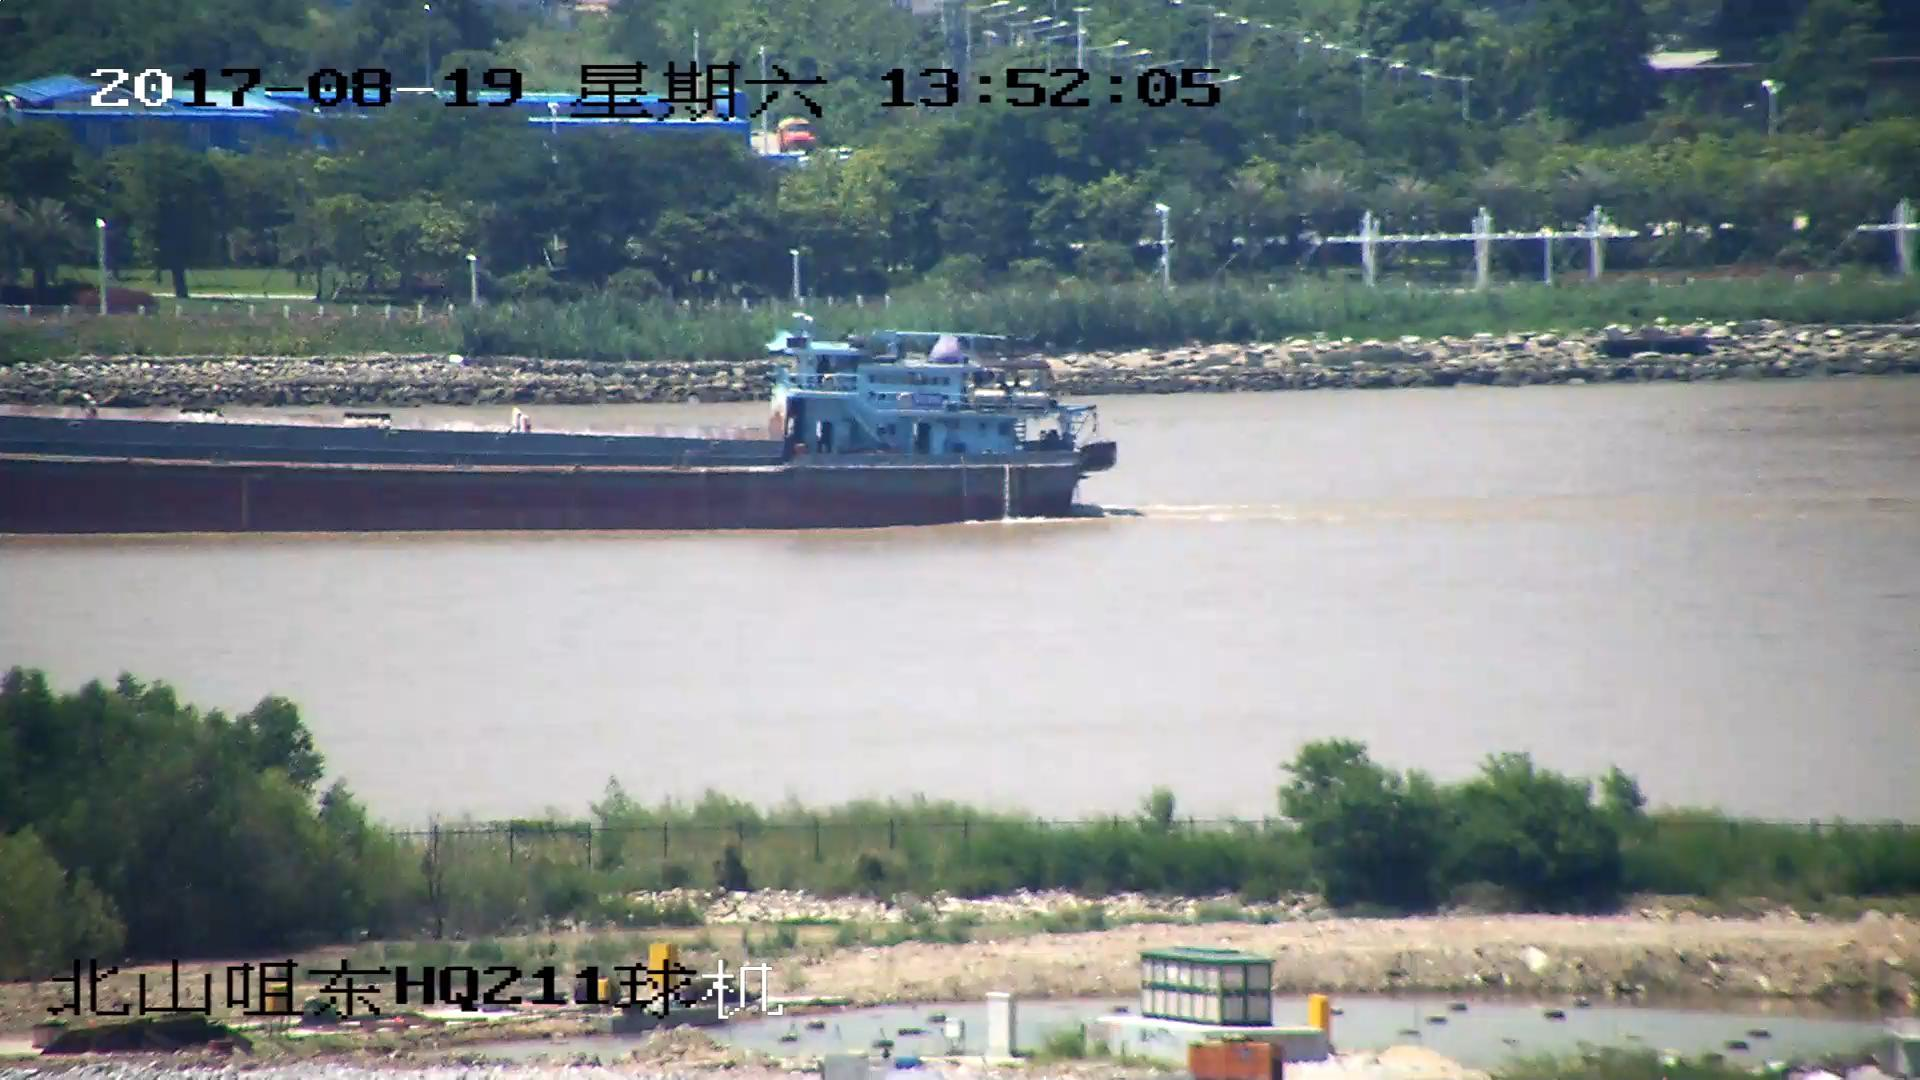Ship: (3, 313, 1120, 537)
